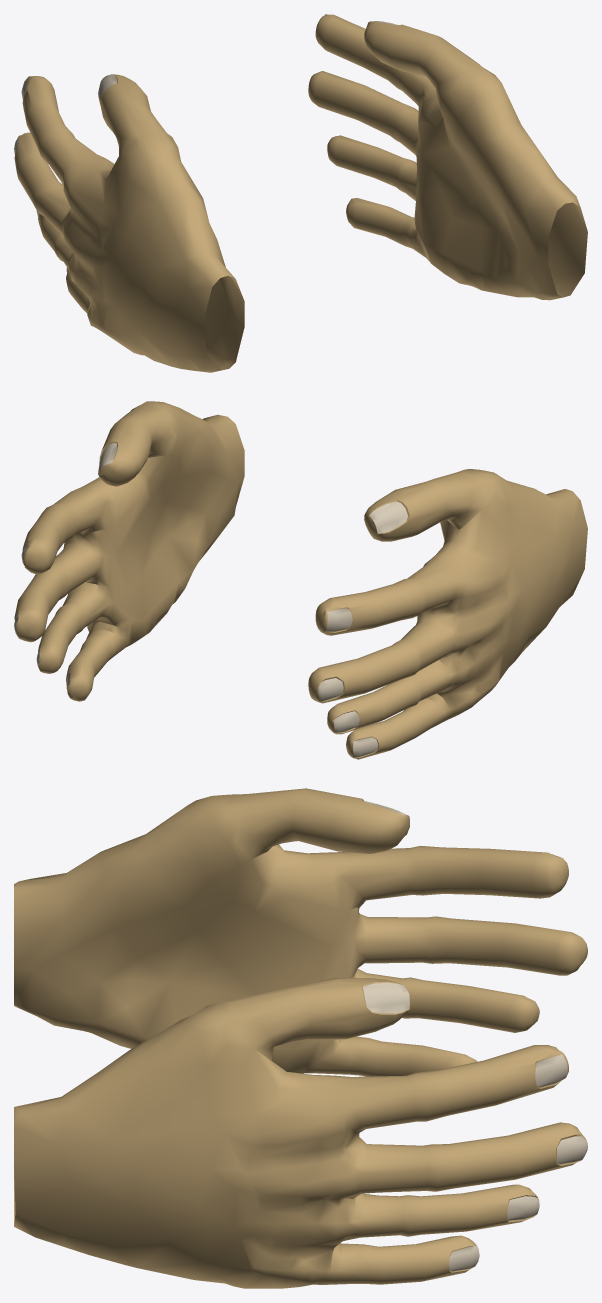
3 renders of one model, top to bottom at view 1: azimuth 30°, elevation 25°; view 2: azimuth 150°, elevation 25°; view 3: azimuth 270°, elevation 25°, orthographic. The views are drawn at different scales.
Visible parts, largest first — view 1: group_0, group_1; view 2: group_1 (×4), group_0; view 3: group_0 (×5), group_1.
Boxes of the visible parts, x1,y1,x2,y2 form: group_0: (308,14,587,300); group_1: (14,74,244,372); group_1 (×4): (308,469,587,759); group_0: (14,401,244,701); group_0 (×5): (14,978,587,1288); group_1: (14,788,587,1076).
Bounding box in the file's own units: 224 × 215 × 126.
